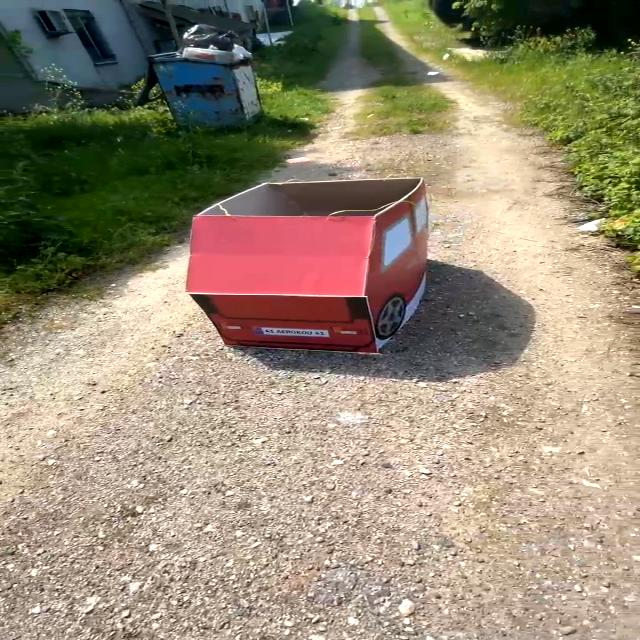red_car: (162, 148, 464, 395)
